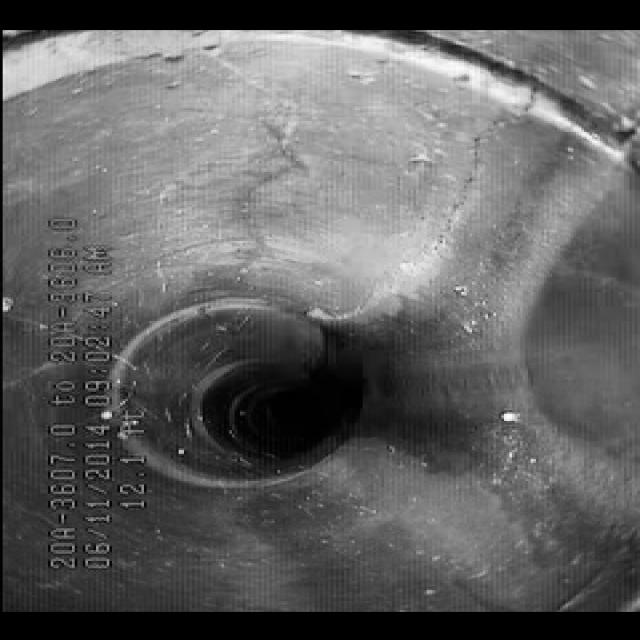Crack: (372, 100, 526, 318), (205, 93, 324, 277)
